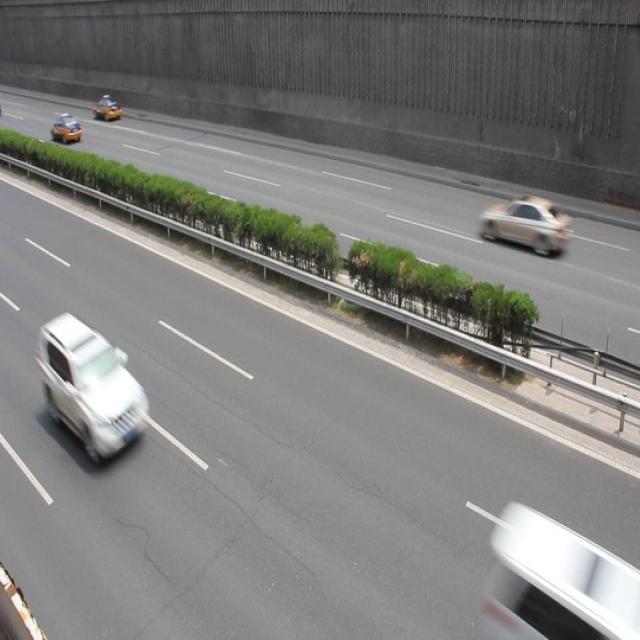car: (39, 311, 151, 465), (478, 194, 573, 256), (51, 112, 82, 144), (94, 95, 120, 120)
truck: (488, 501, 624, 640)
